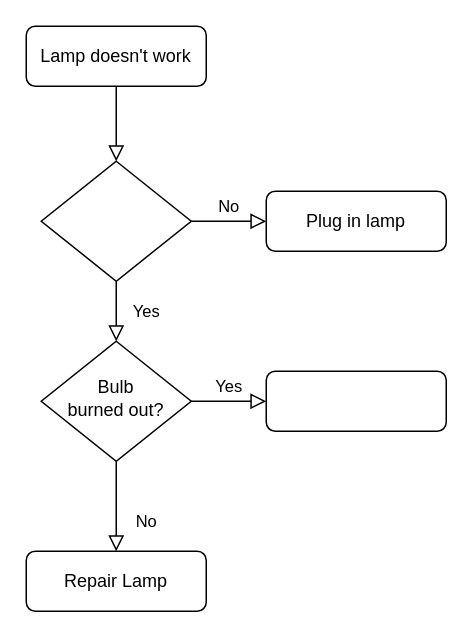
The diagram is 473 pixels wide and 638 high, and some of its shapes have lost their labels. Each missing label, with the centre of its shape:
"Lamp plugged in?" belongs at point 115,220.
"Replace Bulb" belongs at point 355,400.
